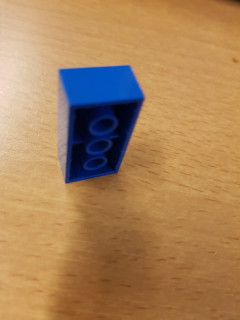2x4 blue: (51, 61, 148, 188)
